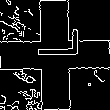L_W: (30, 39, 80, 71)
